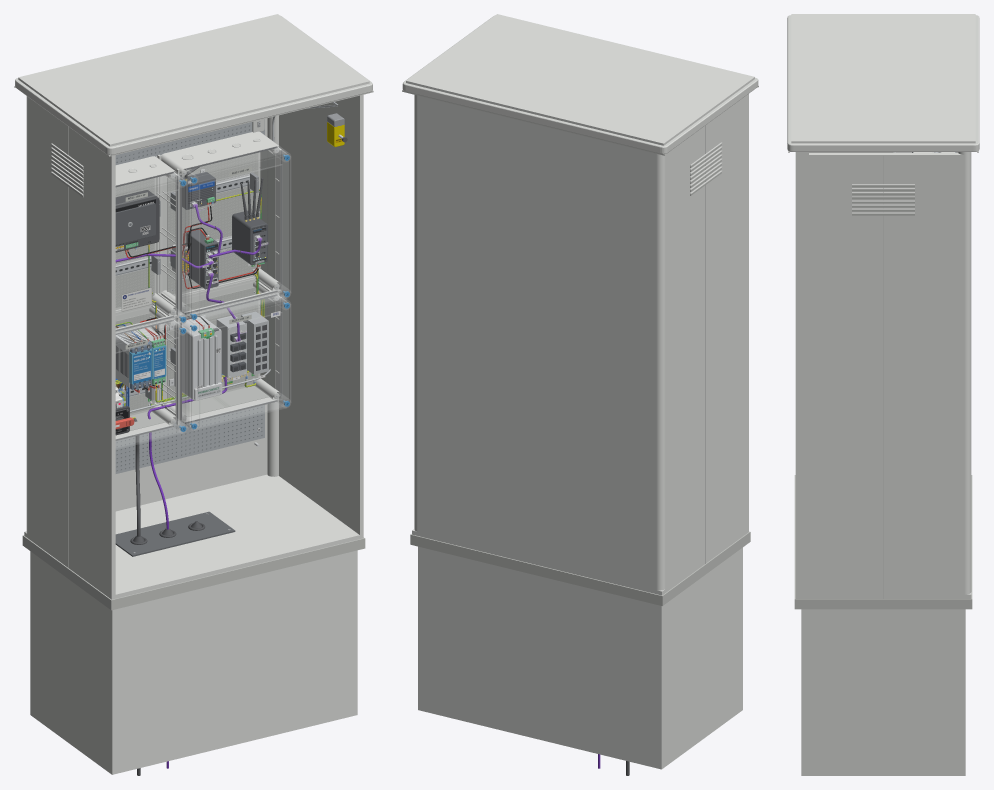
The model's file is ems.glb.
The picture shows the model from 3 angles, left to right: view 1: azimuth 30°, elevation 25°; view 2: azimuth 150°, elevation 25°; view 3: azimuth 270°, elevation 25°; orthographic projection.
Bounding box in the file's own units: 829 × 2042 × 516.
Materials: 289 (159 with a texture image).
